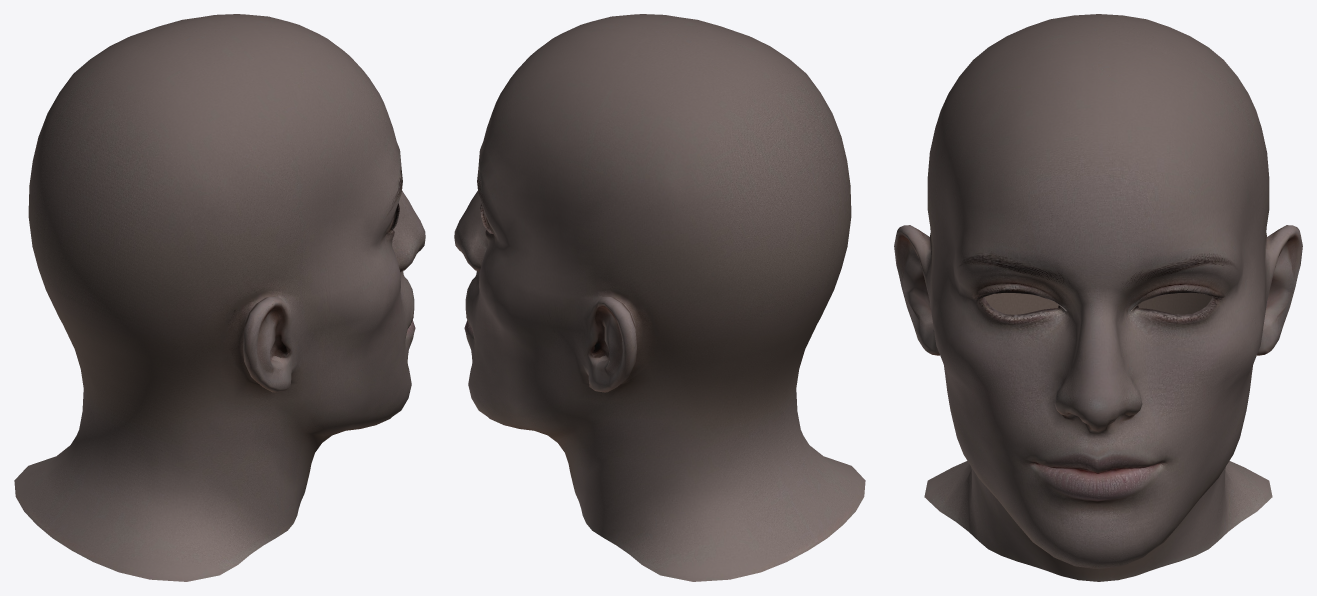
The model's file is dms_head.glb.
3 renders of one model, left to right at view 1: azimuth 30°, elevation 25°; view 2: azimuth 150°, elevation 25°; view 3: azimuth 270°, elevation 25°, orthographic. The views are drawn at different scales.
Visible parts, largest first — view 1: tripo_node_04d1e813-e3ba-46d4-864f-6d148117362e; view 2: tripo_node_04d1e813-e3ba-46d4-864f-6d148117362e; view 3: tripo_node_04d1e813-e3ba-46d4-864f-6d148117362e.
Part boxes in pixels (box(x1,y1,x2,y2)): tripo_node_04d1e813-e3ba-46d4-864f-6d148117362e: box(14, 14, 425, 581); tripo_node_04d1e813-e3ba-46d4-864f-6d148117362e: box(454, 14, 865, 581); tripo_node_04d1e813-e3ba-46d4-864f-6d148117362e: box(894, 14, 1302, 581).
Size of the model in its own units: 0.8262 by 0.998 by 0.7363.
Materials: 1 (1 with a texture image).
